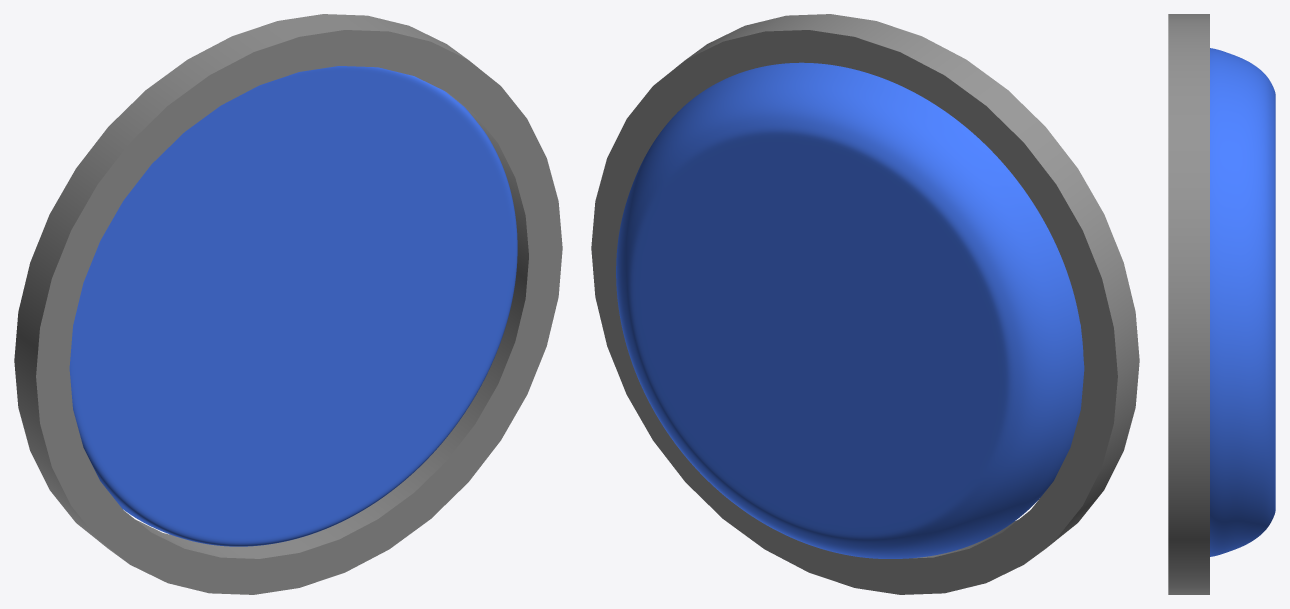
The model's file is yuanhuai.FBX.
3 renders of one model, left to right at view 1: azimuth 30°, elevation 25°; view 2: azimuth 150°, elevation 25°; view 3: azimuth 270°, elevation 25°, orthographic. The views are drawn at different scales.
Visible parts, largest first — view 1: Cylinder057, Cylinder058; view 2: Cylinder057, Cylinder058; view 3: Cylinder057, Cylinder058.
Boxes of the visible parts, x1,y1,x2,y2 form: Cylinder057: (69, 66, 517, 546); Cylinder058: (14, 14, 562, 594); Cylinder057: (616, 62, 1084, 558); Cylinder058: (591, 14, 1139, 594); Cylinder057: (1210, 48, 1275, 556); Cylinder058: (1168, 14, 1209, 594).
Bounding box in the file's own units: 1.88 × 1.88 × 0.3464.
